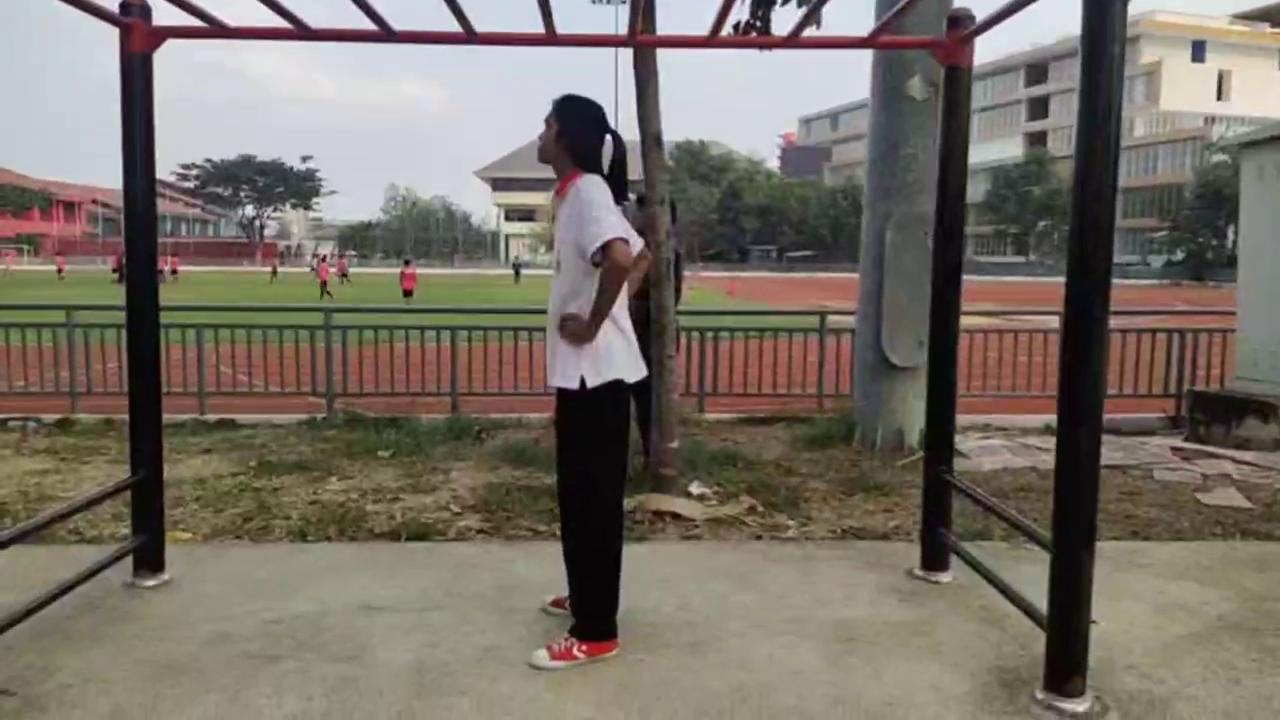squat up: (527, 97, 654, 670)
